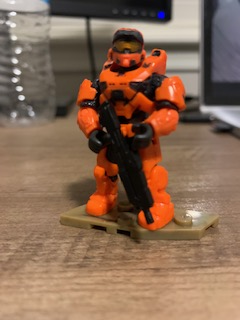rifle: (91, 102, 159, 228)
spartan: (71, 25, 188, 232)
